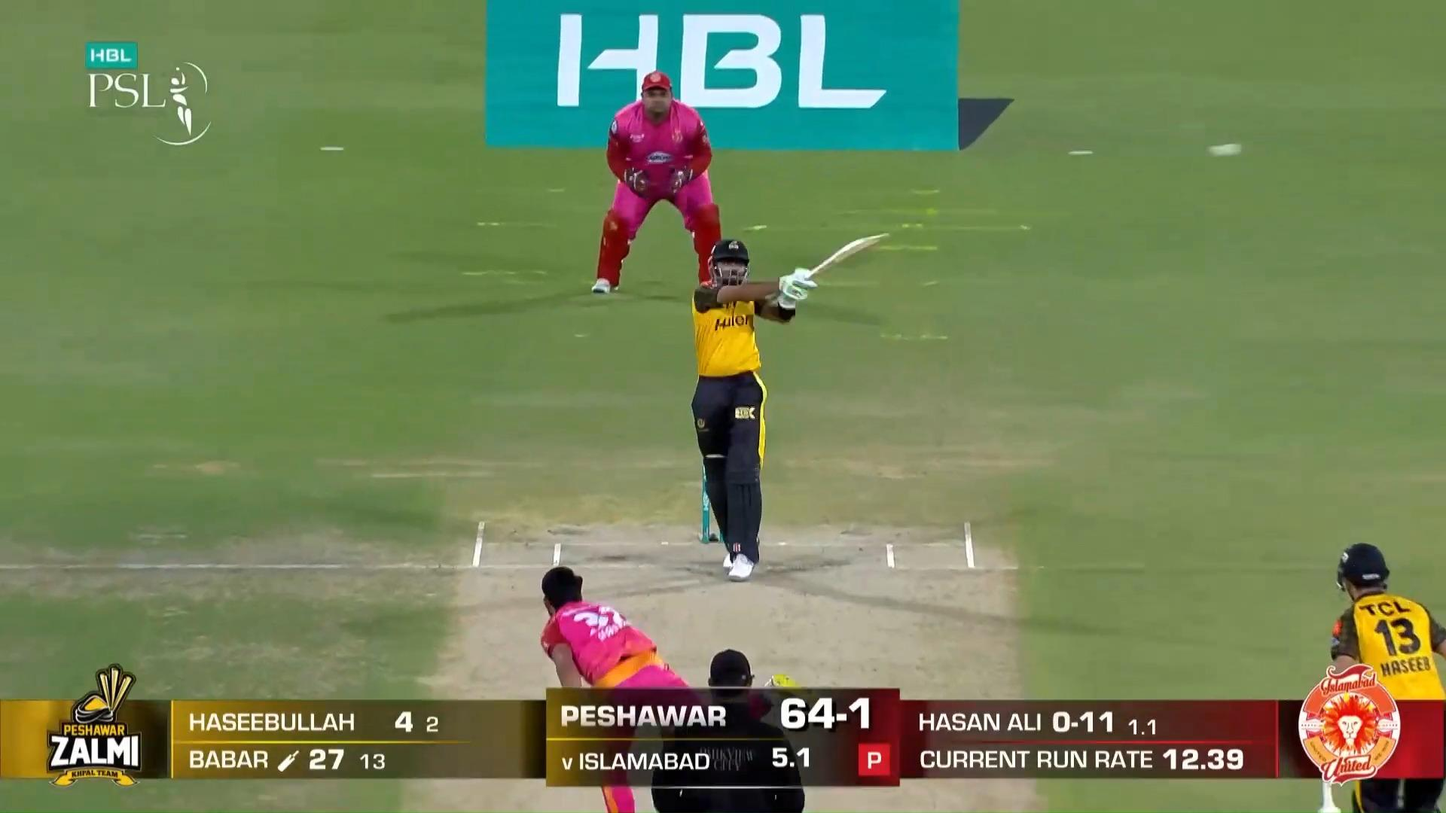batsman: (692, 232, 889, 582)
